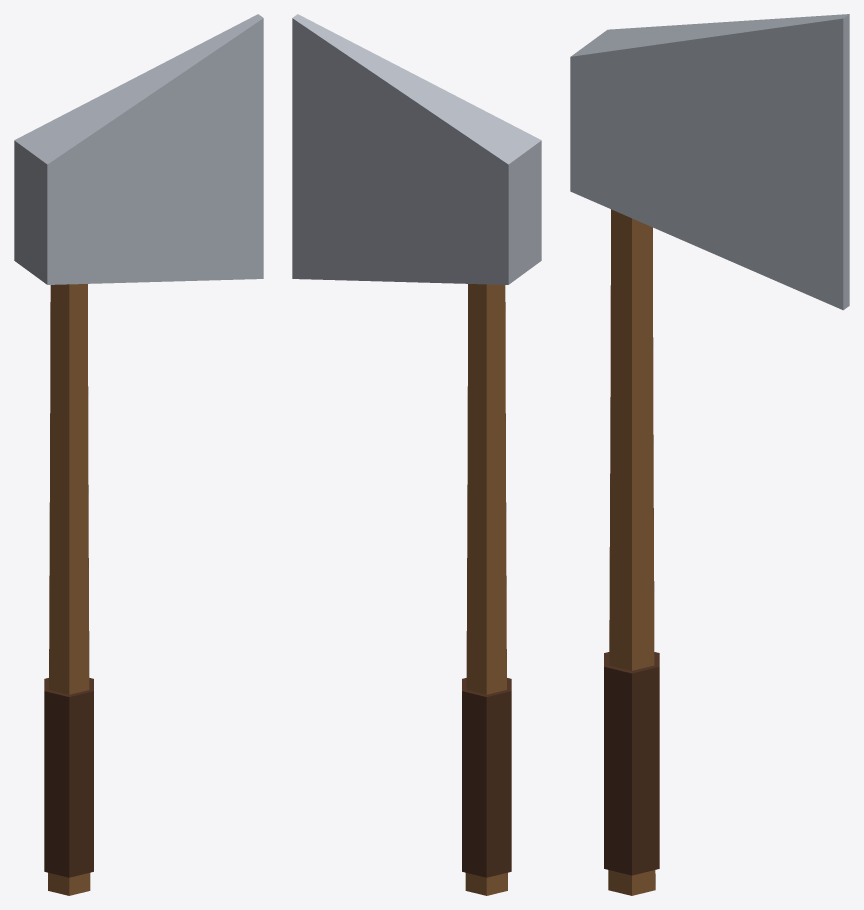
The model's file is axe.glb.
3 renders of one model, left to right at view 1: azimuth 30°, elevation 25°; view 2: azimuth 150°, elevation 25°; view 3: azimuth 330°, elevation 25°, orthographic. The views are drawn at different scales.
Visible parts, largest first — view 1: axe; view 2: axe; view 3: axe.
Boxes of the visible parts, x1,y1,x2,y2 form: axe: (14,14,263,895); axe: (292,14,541,895); axe: (570,14,849,895).
Size of the model in its own units: 0.24 by 0.82 by 0.06.
